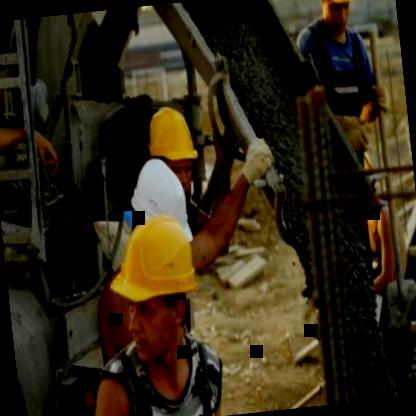helmet: (104, 208, 216, 374), (128, 157, 196, 260), (140, 101, 200, 194), (316, 0, 361, 35)
